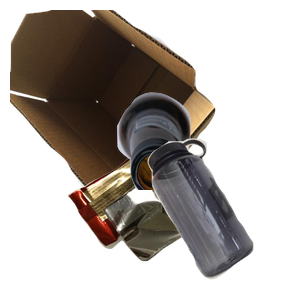cardboard: (10, 10, 218, 190)
glass: (115, 90, 300, 270)
plastic: (145, 136, 300, 300)
trash: (65, 148, 258, 300)
